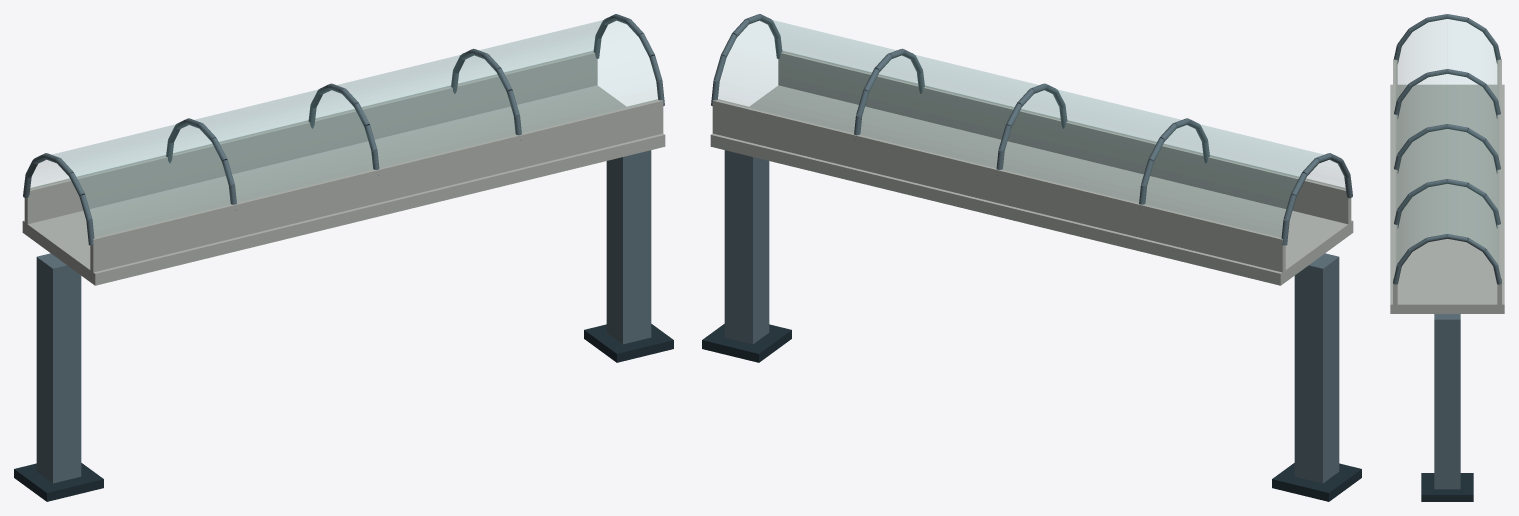
Rendered from bridge_d0_lod0.glb.
The picture shows the model from 3 angles, left to right: view 1: azimuth 30°, elevation 25°; view 2: azimuth 150°, elevation 25°; view 3: azimuth 270°, elevation 25°; orthographic projection. The views are drawn at different scales.
Visible parts, largest first — view 1: BODY, GLASS; view 2: BODY, GLASS; view 3: BODY, GLASS.
Part boxes in pixels (left/top/right/bottom): BODY: left=14, top=14, right=673, bottom=501; GLASS: left=31, top=18, right=658, bottom=236; BODY: left=702, top=14, right=1361, bottom=501; GLASS: left=717, top=18, right=1344, bottom=236; BODY: left=1390, top=14, right=1504, bottom=501; GLASS: left=1396, top=18, right=1498, bottom=264.
Bounding box in the file's own units: 22 × 10.9 × 4.4.
